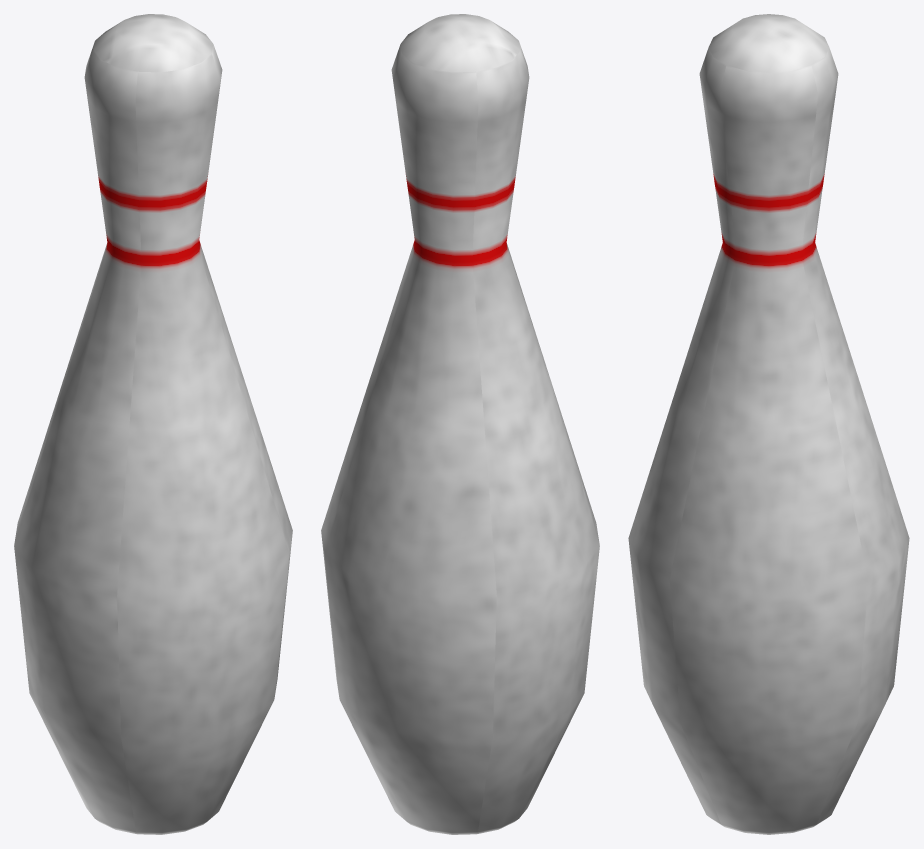
The model's file is pin.glb.
The picture shows the model from 3 angles, left to right: view 1: azimuth 30°, elevation 25°; view 2: azimuth 150°, elevation 25°; view 3: azimuth 270°, elevation 25°; orthographic projection.
Parts seen in each view (by area): view 1: pin; view 2: pin; view 3: pin.
Boxes of the visible parts, x1,y1,x2,y2 form: pin: [14, 14, 292, 834]; pin: [321, 14, 599, 834]; pin: [628, 14, 909, 834].
Bounding box in the file's own units: 0.1274 × 0.3936 × 0.1274.
Materials: 1 (1 with a texture image).
